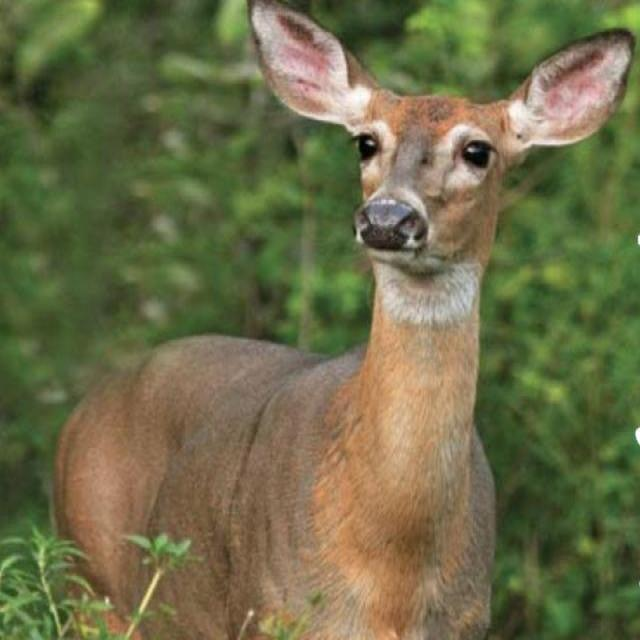deer: (52, 5, 626, 635)
